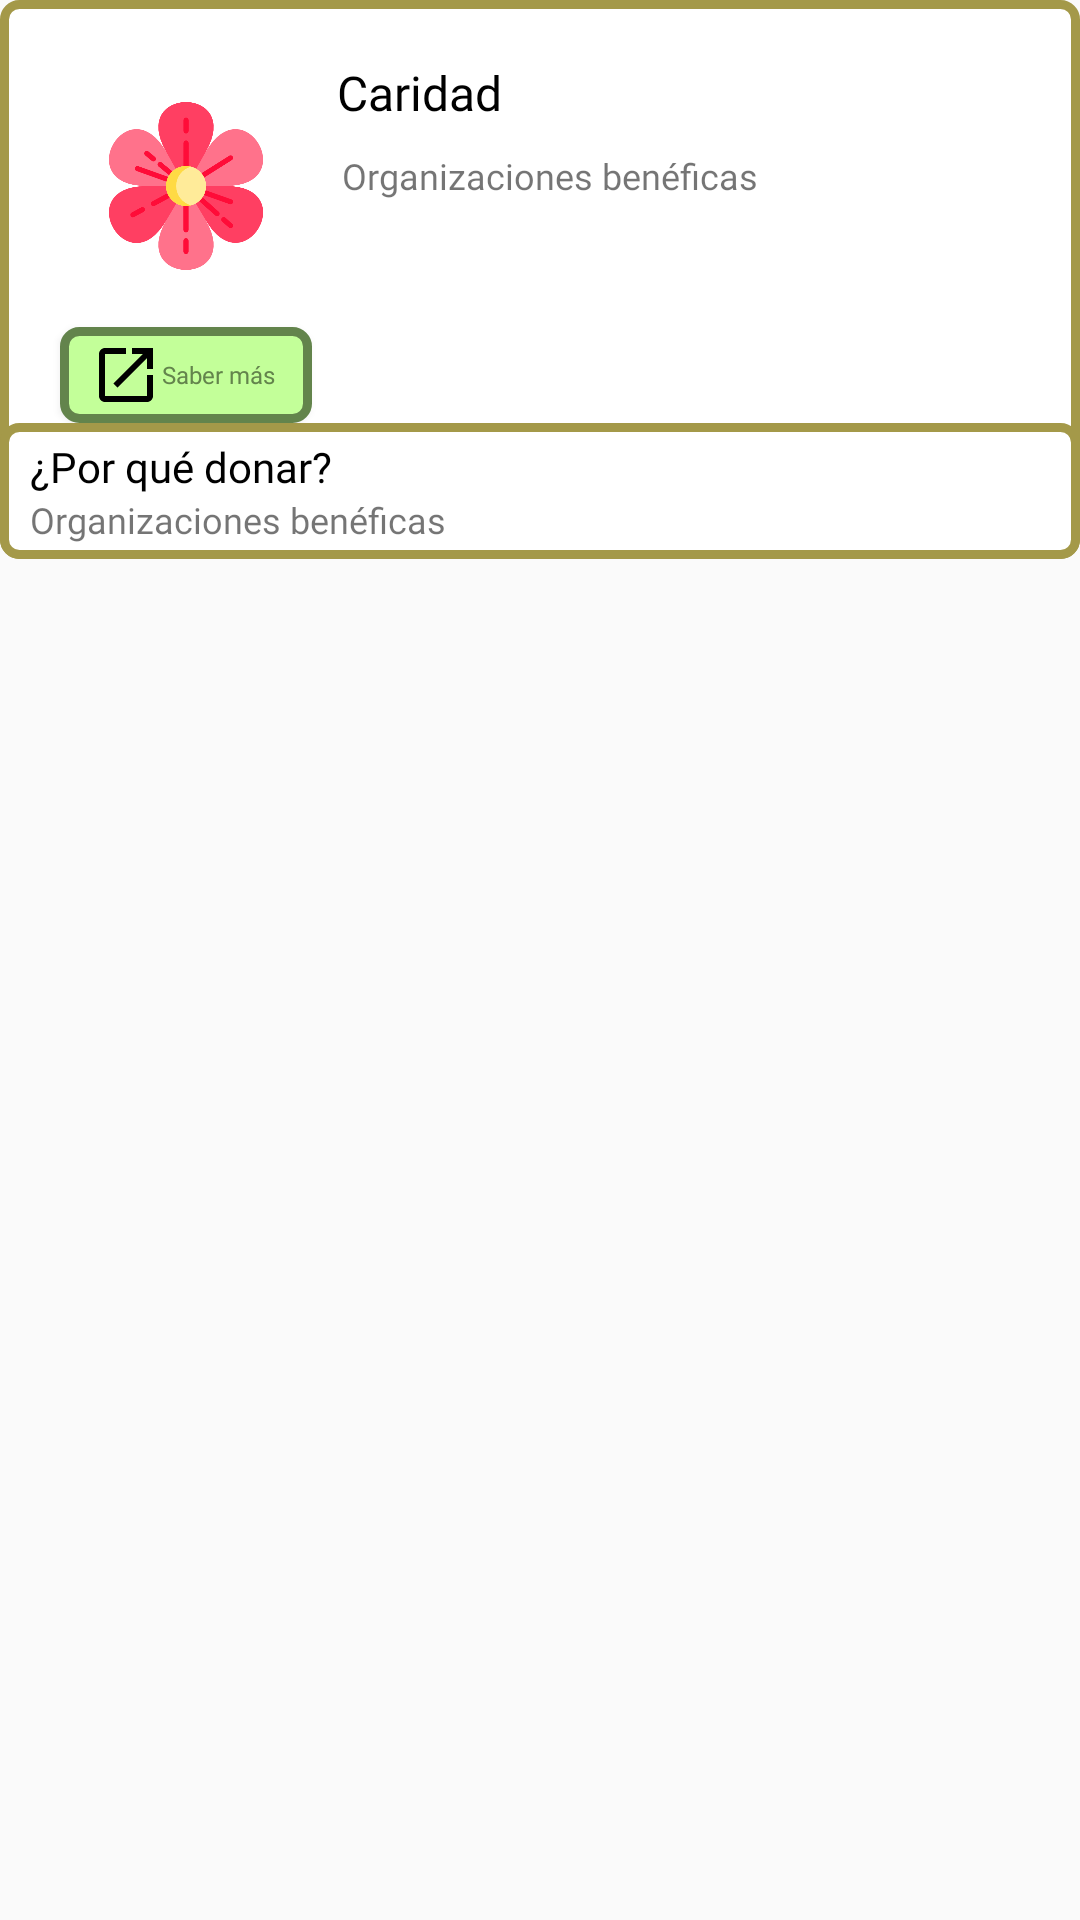

Where to tap for icons on this 1080w x 1920h app screen, as (x,y):
flower: (186,186)
